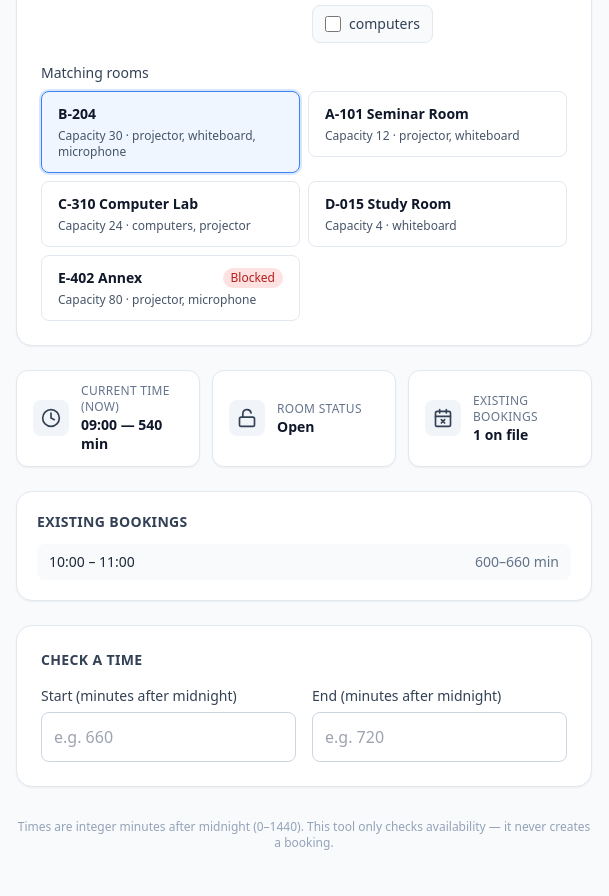
Test: UI integration › E1: explanation disappears after changing the end time
The image size is (609, 896).
Later steps or results of the test are not shown.
(page scrolled)
Type "700" into the number field labelled "Start (minutes after midnight)" at (168, 736), box top-left (41, 712), bottom-right (296, 762)
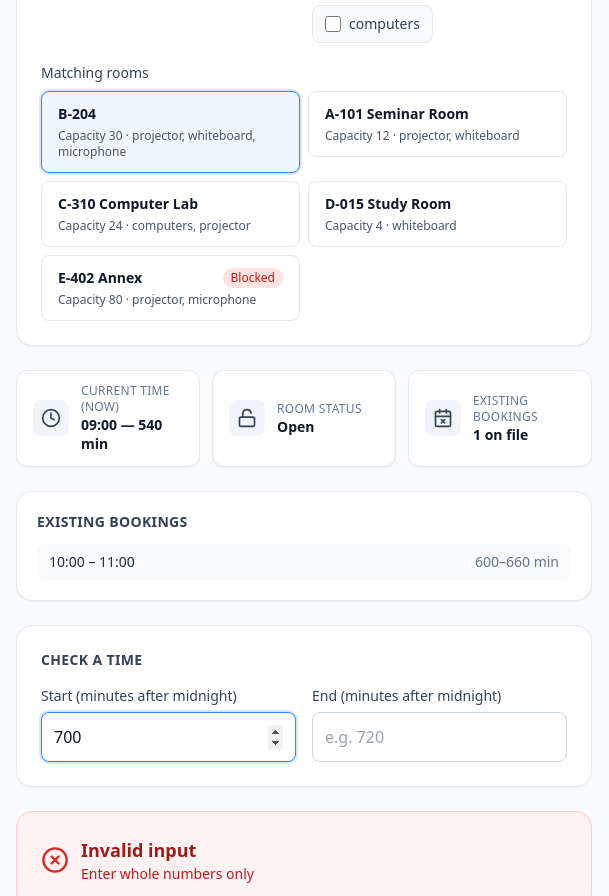
Type "760" into the number field labelled "End (minutes after midnight)" at (440, 736), box top-left (312, 712), bottom-right (567, 762)
(page scrolled)
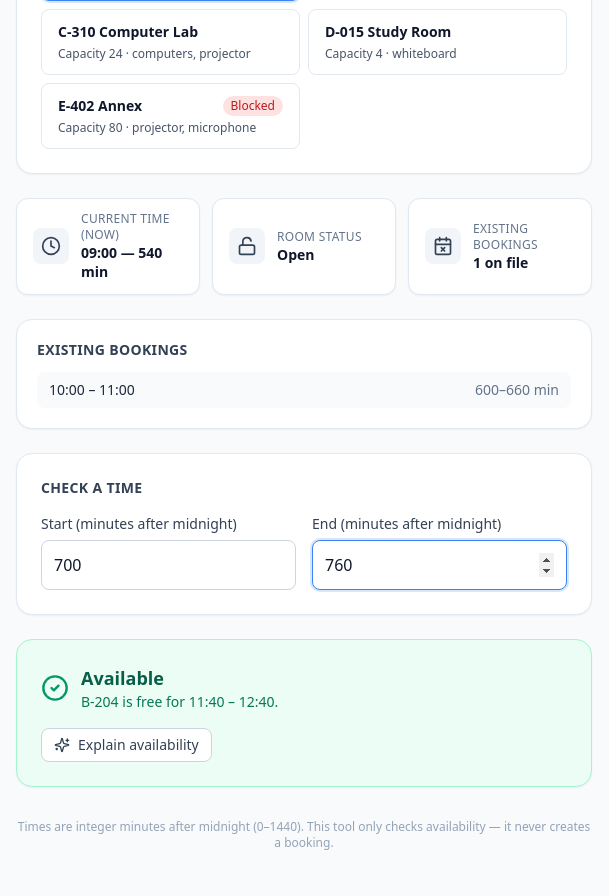
Click the button "Explain availability" at (126, 744), box top-left (41, 728), bottom-right (212, 762)
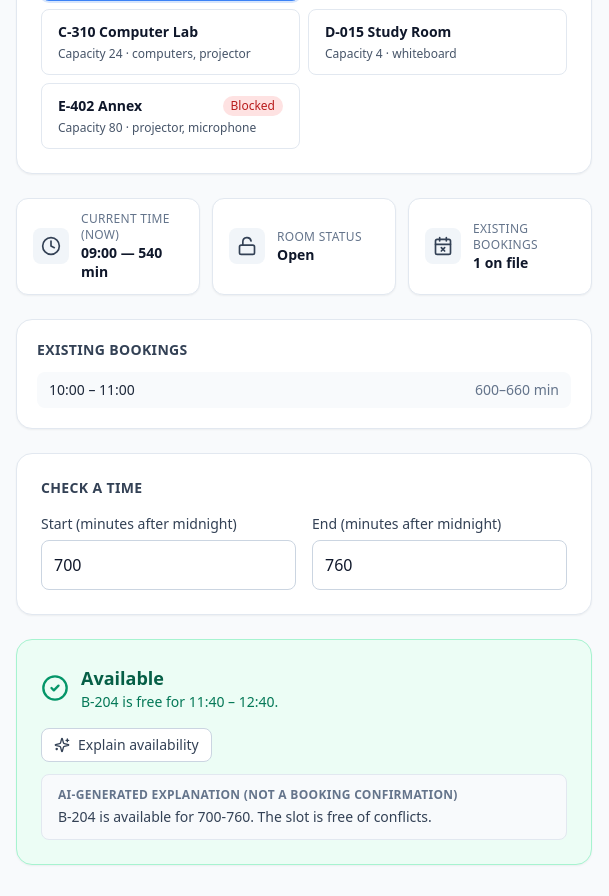
Now the element with test id "explanation" is shown, box top-left (41, 774), bottom-right (567, 840)
